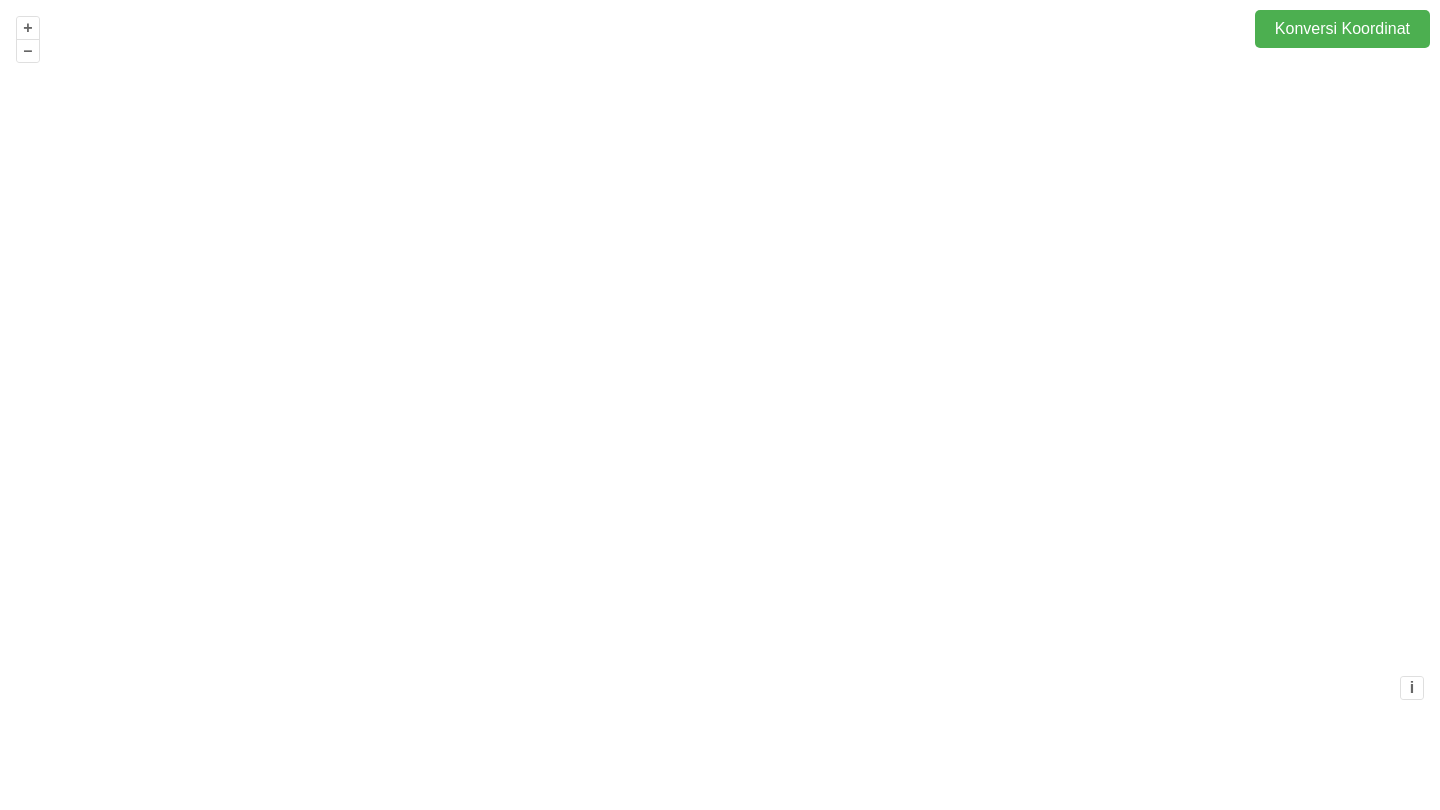
Test: Map › toggles conversion form visibility when button is clicked
Click the button "Konversi Koordinat": click(1342, 29) [1255,10,1430,48]
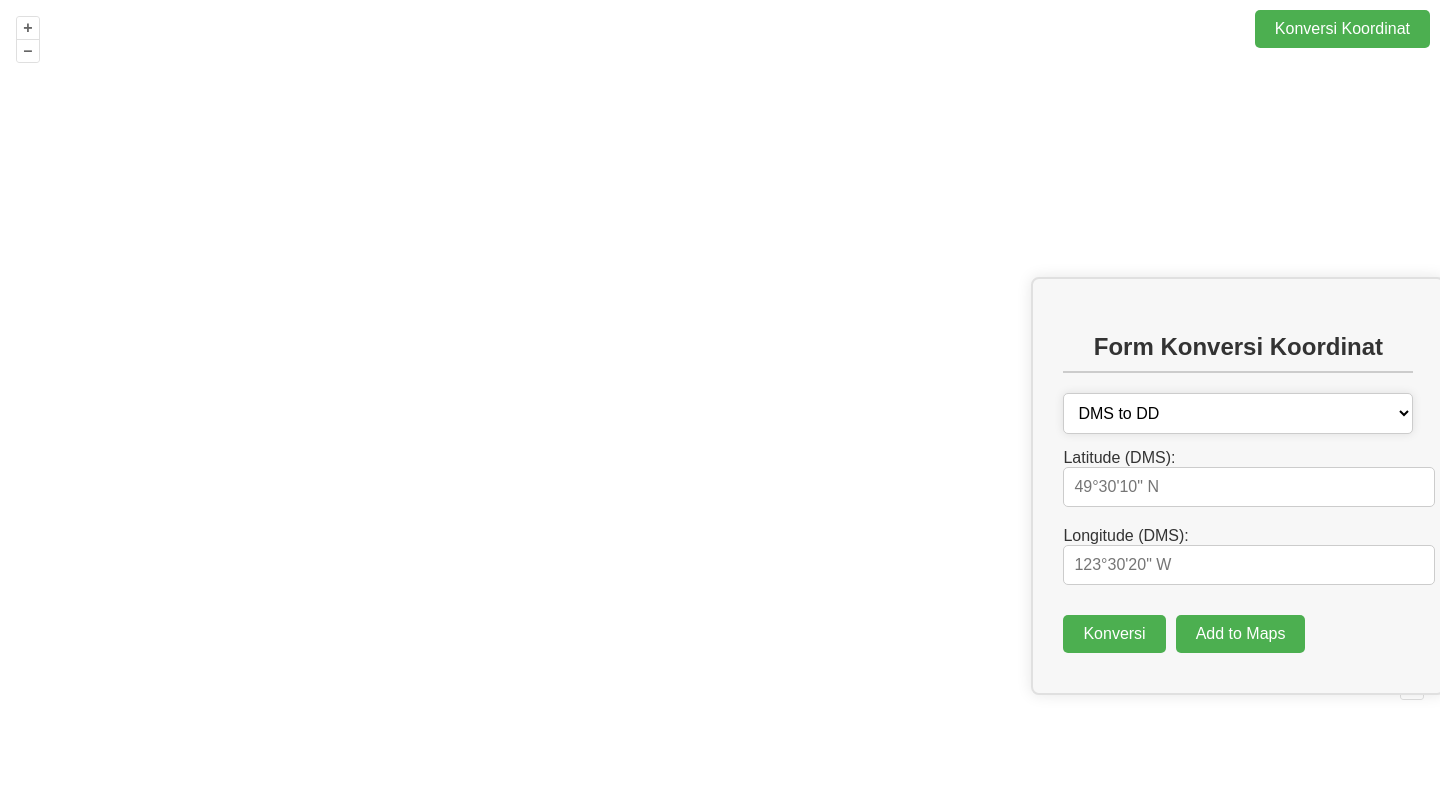
Now the heading "Form Konversi Koordinat" is shown, box [1063,333,1413,373]
Click the button "Konversi Koordinat": click(1342, 29) [1255,10,1430,48]
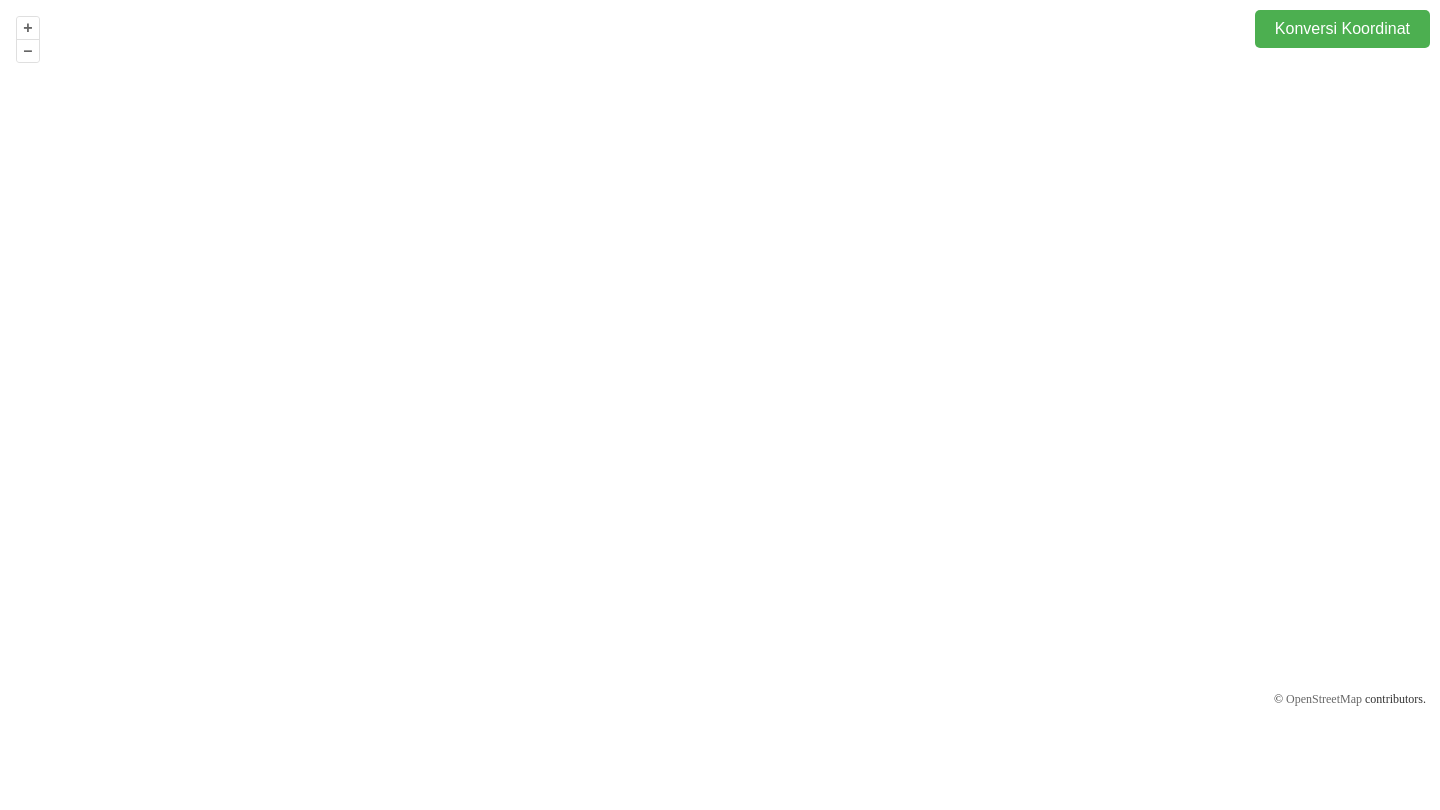
Now the heading "Form Konversi Koordinat" is gone
